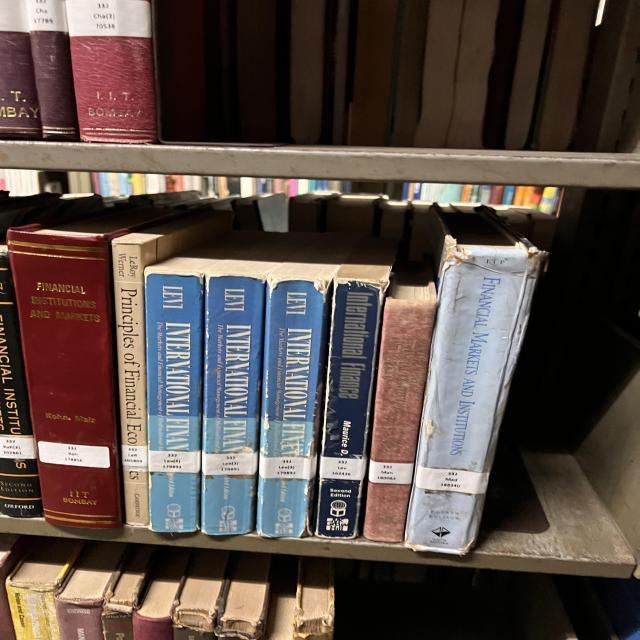Book: (7, 208, 180, 528), (405, 208, 545, 555), (112, 210, 233, 525), (315, 239, 395, 539), (257, 264, 337, 538), (363, 264, 437, 542), (202, 261, 275, 535), (145, 258, 215, 532), (67, 0, 157, 142), (0, 245, 43, 518), (25, 0, 78, 140)
Label: (67, 0, 152, 38), (415, 466, 488, 494), (38, 441, 110, 469), (258, 456, 317, 480), (25, 0, 67, 31), (202, 452, 258, 475), (148, 450, 200, 472), (320, 456, 367, 480), (368, 460, 413, 485), (0, 435, 37, 459), (122, 445, 148, 468)
